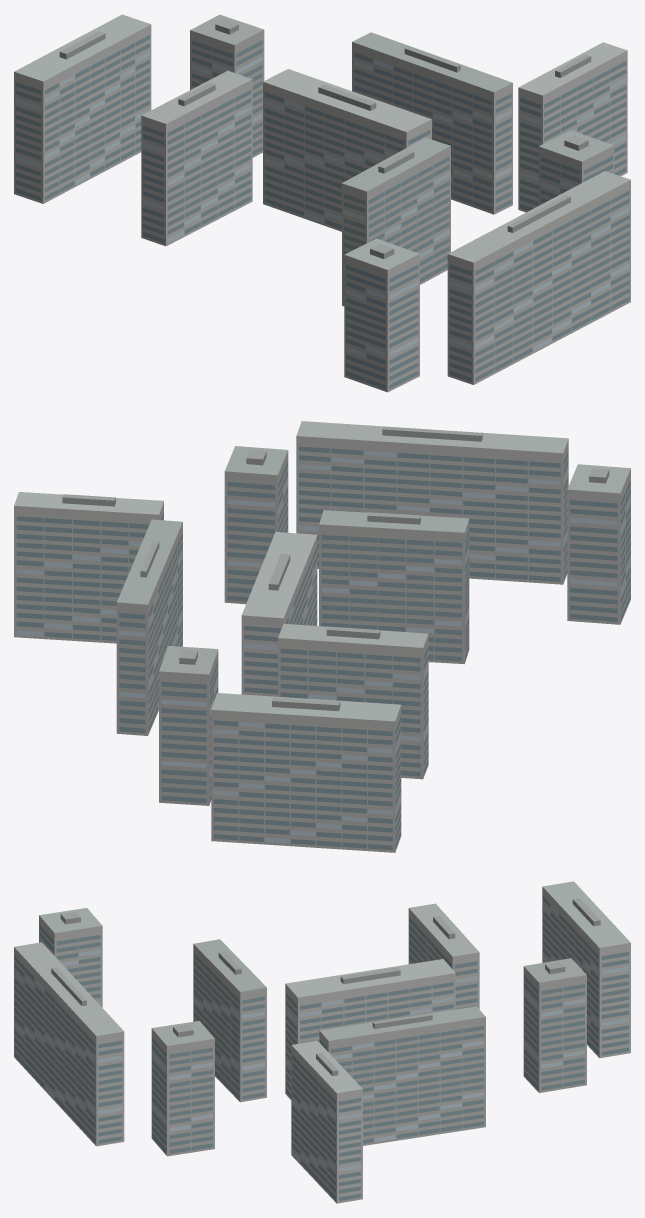
File: apt-a13593801.glb
3 views of the same model, one above another, from view 1: azimuth 30°, elevation 25°; view 2: azimuth 150°, elevation 25°; view 3: azimuth 270°, elevation 25° (orthographic). The views are drawn at different scales.
Visible parts, largest first — view 1: apt-a13593801; view 2: apt-a13593801; view 3: apt-a13593801.
Part boxes in pixels (left/top/right/bottom): apt-a13593801: left=14, top=14, right=630, bottom=392; apt-a13593801: left=14, top=421, right=630, bottom=852; apt-a13593801: left=14, top=881, right=630, bottom=1203.
Bounding box in the file's own units: 189 × 47.81 × 232.
